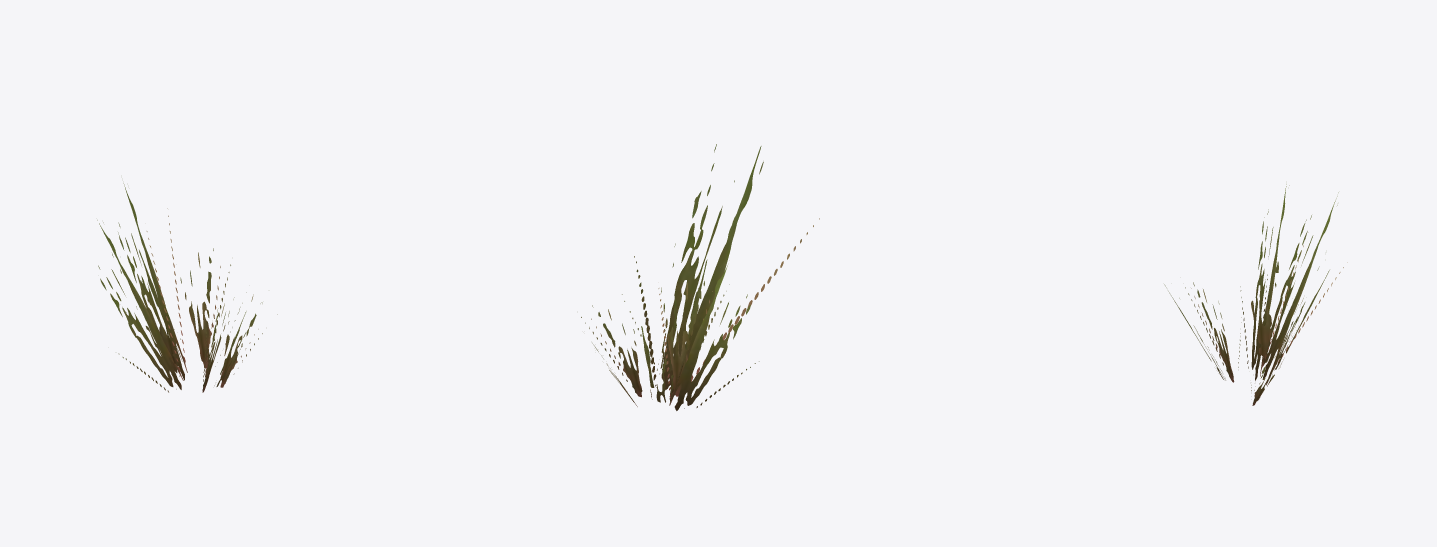
File: susuki.lite.glb
The picture shows the model from 3 angles, left to right: view 1: azimuth 30°, elevation 25°; view 2: azimuth 150°, elevation 25°; view 3: azimuth 270°, elevation 25°; orthographic projection. The views are drawn at different scales.
Parts seen in each view (by area): view 1: v2_lod1, v1_lod1, v0_lod1; view 2: v1_lod1, v2_lod1, v0_lod1; view 3: v2_lod1, v1_lod1, v0_lod1.
Boxes of the visible parts, <box> form: v2_lod1: <box>97,220,246,392</box>; v1_lod1: <box>118,183,277,387</box>; v0_lod1: <box>112,250,262,386</box>; v1_lod1: <box>592,144,819,406</box>; v2_lod1: <box>581,265,759,410</box>; v0_lod1: <box>641,243,707,403</box>; v2_lod1: <box>1185,184,1308,385</box>; v1_lod1: <box>1251,192,1347,405</box>; v0_lod1: <box>1164,238,1329,380</box>.
Bounding box in the file's own units: 1.81 × 2.06 × 2.31.
1 material, 1 textured.
